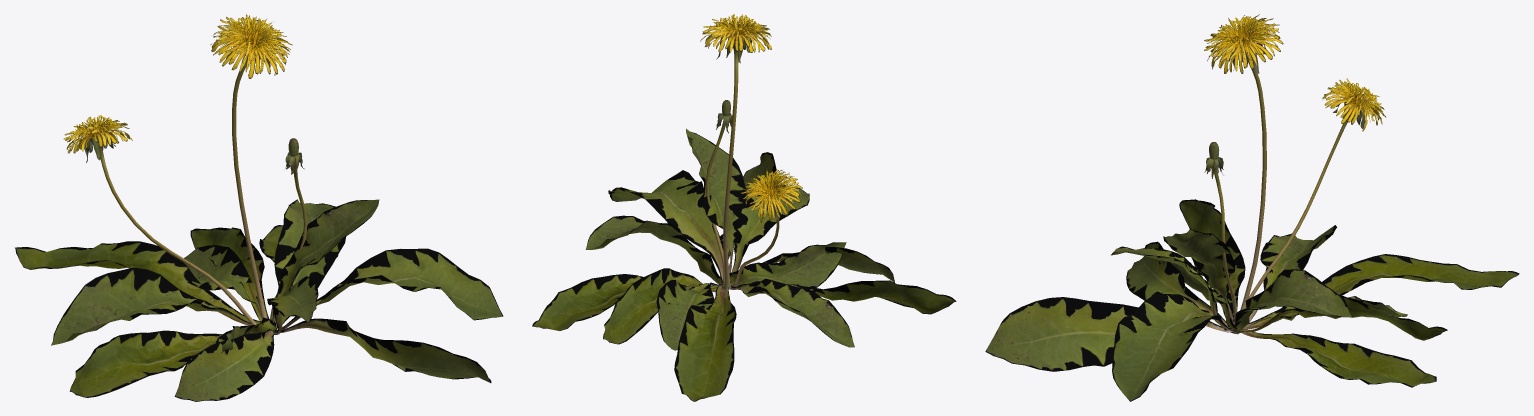
The model's file is dandelion.glb.
3 views of the same model, side by side, from view 1: azimuth 30°, elevation 25°; view 2: azimuth 150°, elevation 25°; view 3: azimuth 270°, elevation 25° (orthographic). The views are drawn at different scales.
Visible parts, largest first — view 1: dandelion_01_a_LOD0; view 2: dandelion_01_a_LOD0; view 3: dandelion_01_a_LOD0.
Boxes of the visible parts, x1,y1,x2,y2 form: dandelion_01_a_LOD0: (15, 14, 503, 401); dandelion_01_a_LOD0: (532, 14, 956, 401); dandelion_01_a_LOD0: (985, 14, 1519, 401).
Bounding box in the file's own units: 2.79 × 2.08 × 3.26.
Materials: 1 (1 with a texture image).
